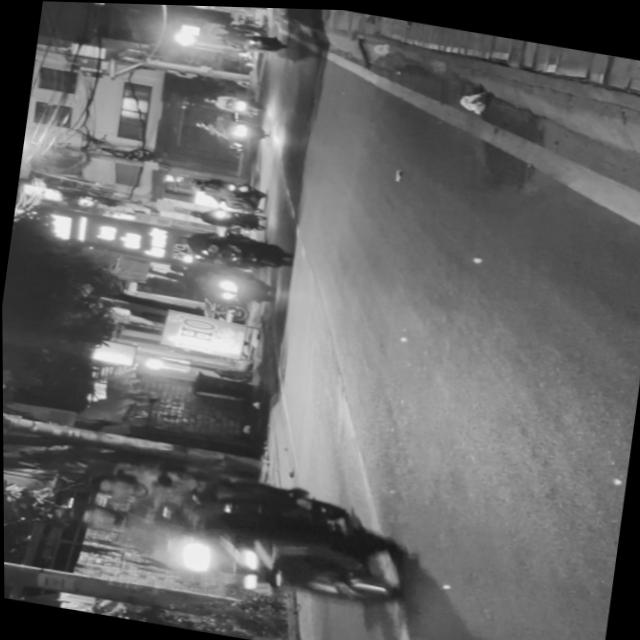helmet: (61, 498, 121, 538)
licenseplate: (54, 448, 421, 621)
